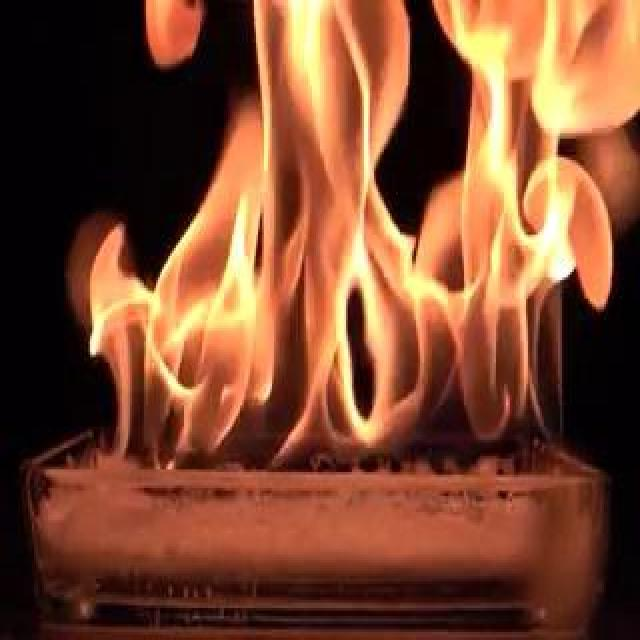Fire: (69, 2, 579, 482)
